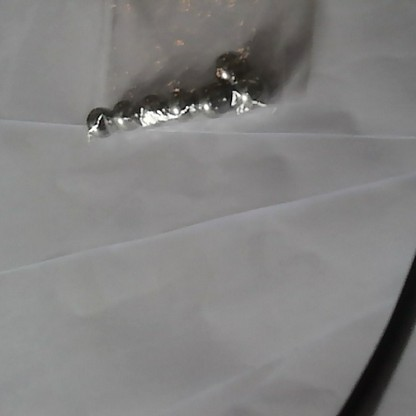ironball: (232, 72, 268, 108), (198, 83, 236, 114), (214, 50, 248, 82), (82, 106, 114, 136), (163, 88, 192, 118), (136, 94, 165, 123), (109, 97, 137, 126)
